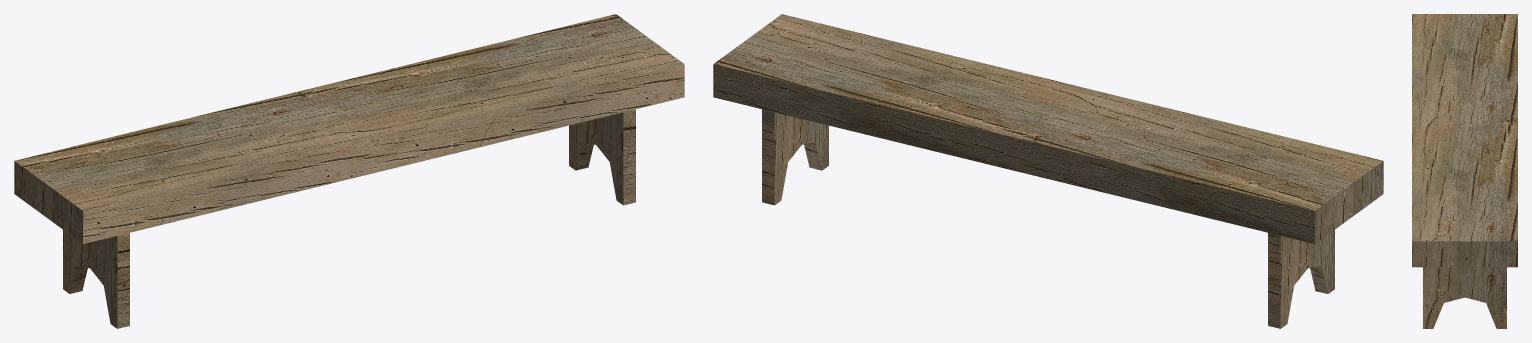
The model's file is banco_madera.FBX.
The picture shows the model from 3 angles, left to right: view 1: azimuth 30°, elevation 25°; view 2: azimuth 150°, elevation 25°; view 3: azimuth 270°, elevation 25°; orthographic projection. The views are drawn at different scales.
Parts seen in each view (by area): view 1: Box489, Box491, Box490; view 2: Box489, Box491, Box490; view 3: Box489, Box490.
Boxes of the visible parts, <box> form: Box489: <box>14,14,684,243</box>; Box491: <box>63,230,129,328</box>; Box490: <box>569,109,635,205</box>; Box489: <box>713,14,1383,243</box>; Box491: <box>1268,230,1334,328</box>; Box490: <box>762,109,828,205</box>; Box489: <box>1412,14,1517,267</box>; Box490: <box>1423,267,1506,328</box>.
Size of the model in its own units: 74.35 by 15.75 by 14.64.
